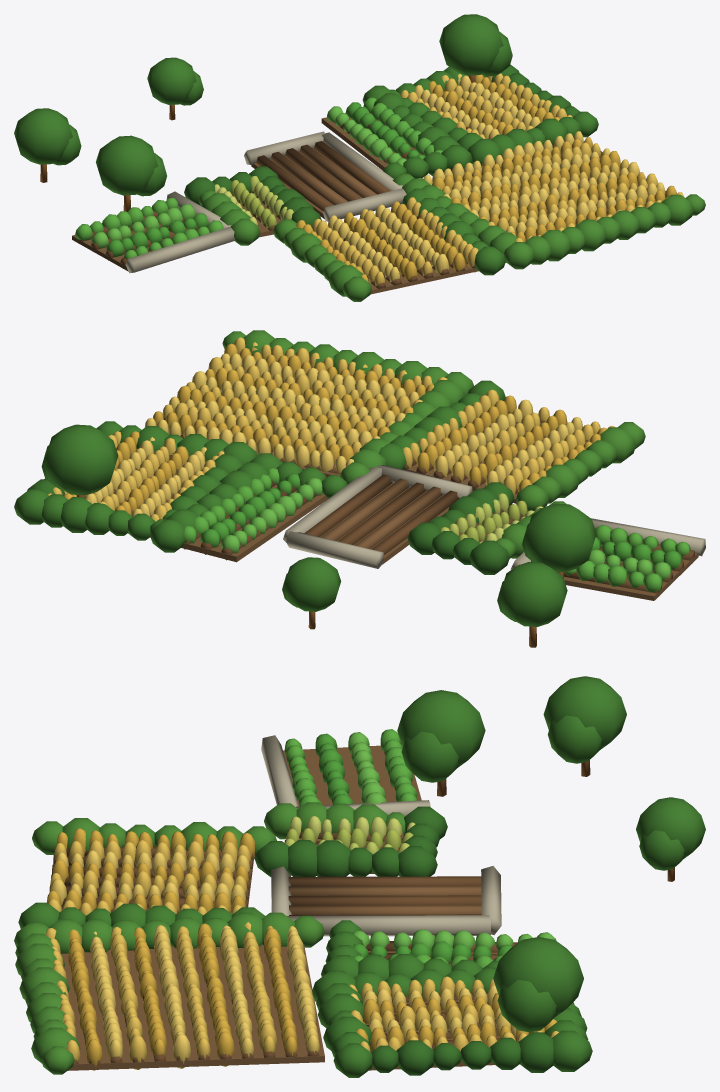
File: improvement_farm_0_1.fbx
The picture shows the model from 3 angles, top to bottom: view 1: azimuth 30°, elevation 25°; view 2: azimuth 150°, elevation 25°; view 3: azimuth 270°, elevation 25°; orthographic projection. The views are drawn at different scales.
Visible parts, largest first — view 1: improvement_farm_0_1_leaf#3f7a2c.001_25, improvement_farm_0_1_crop#d4aa3e.001_03, improvement_farm_0_1_crop#e8c860.001_04, improvement_farm_0_1_crop#e0bc52.001_02, improvement_farm_0_1_hedge1.003_20, improvement_farm_0_1_fwall.001_11, improvement_farm_0_1_hedge1.004_22, improvement_farm_0_1_hedge0.005_17, improvement_farm_0_1_crop#5aa83e.001_08, improvement_farm_0_1_hedge2.003_06, improvement_farm_0_1_plough0_18, improvement_farm_0_1_hedge2.004_21 (+11 smaller); view 2: improvement_farm_0_1_crop#e8c860.001_04, improvement_farm_0_1_crop#e0bc52.001_02, improvement_farm_0_1_leaf#3f7a2c.001_25, improvement_farm_0_1_crop#d4aa3e.001_03, improvement_farm_0_1_hedge2.004_21, improvement_farm_0_1_fwall.001_11, improvement_farm_0_1_hedge1.004_22, improvement_farm_0_1_crop#5aa83e.001_08, improvement_farm_0_1_hedge0.004_16, improvement_farm_0_1_hedge2.003_06, improvement_farm_0_1_tilled.001_00, improvement_farm_0_1_plough0_18 (+10 smaller); view 3: improvement_farm_0_1_leaf#3f7a2c.001_25, improvement_farm_0_1_crop#d4aa3e.001_03, improvement_farm_0_1_crop#e0bc52.001_02, improvement_farm_0_1_crop#e8c860.001_04, improvement_farm_0_1_tilled.001_00, improvement_farm_0_1_hedge0.005_17, improvement_farm_0_1_fwall.001_11, improvement_farm_0_1_hedge1.004_22, improvement_farm_0_1_hedge0.004_16, improvement_farm_0_1_hedge1.003_20, improvement_farm_0_1_hedge2.005_23, improvement_farm_0_1_hedge2.004_21 (+10 smaller).
Boxes of the visible parts, bbox=[...] form: improvement_farm_0_1_leaf#3f7a2c.001_25: bbox=[14, 14, 512, 196]; improvement_farm_0_1_crop#d4aa3e.001_03: bbox=[296, 74, 676, 281]; improvement_farm_0_1_crop#e8c860.001_04: bbox=[328, 74, 665, 282]; improvement_farm_0_1_crop#e0bc52.001_02: bbox=[312, 73, 684, 285]; improvement_farm_0_1_hedge1.003_20: bbox=[504, 194, 705, 269]; improvement_farm_0_1_fwall.001_11: bbox=[125, 131, 406, 273]; improvement_farm_0_1_hedge1.004_22: bbox=[383, 89, 598, 178]; improvement_farm_0_1_hedge0.005_17: bbox=[198, 173, 517, 262]; improvement_farm_0_1_crop#5aa83e.001_08: bbox=[75, 97, 442, 259]; improvement_farm_0_1_hedge2.003_06: bbox=[273, 219, 371, 301]; improvement_farm_0_1_plough0_18: bbox=[256, 141, 390, 210]; improvement_farm_0_1_hedge2.004_21: bbox=[362, 67, 485, 170]; improvement_farm_0_1_crop#e8c860.001_04: bbox=[85, 353, 582, 516]; improvement_farm_0_1_crop#e0bc52.001_02: bbox=[47, 337, 600, 521]; improvement_farm_0_1_leaf#3f7a2c.001_25: bbox=[41, 424, 596, 626]; improvement_farm_0_1_crop#d4aa3e.001_03: bbox=[63, 343, 614, 514]; improvement_farm_0_1_hedge2.004_21: bbox=[14, 453, 282, 552]; improvement_farm_0_1_fwall.001_11: bbox=[283, 465, 705, 569]; improvement_farm_0_1_hedge1.004_22: bbox=[96, 421, 347, 534]; improvement_farm_0_1_crop#5aa83e.001_08: bbox=[184, 467, 690, 592]; improvement_farm_0_1_hedge0.004_16: bbox=[407, 482, 514, 574]; improvement_farm_0_1_hedge2.003_06: bbox=[516, 422, 645, 510]; improvement_farm_0_1_tilled.001_00: bbox=[150, 389, 698, 600]; improvement_farm_0_1_plough0_18: bbox=[304, 474, 459, 555]; improvement_farm_0_1_leaf#3f7a2c.001_25: bbox=[397, 676, 705, 1032]; improvement_farm_0_1_crop#d4aa3e.001_03: bbox=[47, 828, 556, 1070]; improvement_farm_0_1_crop#e0bc52.001_02: bbox=[46, 840, 558, 1069]; improvement_farm_0_1_crop#e8c860.001_04: bbox=[50, 850, 530, 1068]; improvement_farm_0_1_tilled.001_00: bbox=[61, 745, 515, 1070]; improvement_farm_0_1_hedge0.005_17: bbox=[48, 802, 405, 953]; improvement_farm_0_1_fwall.001_11: bbox=[261, 735, 501, 936]; improvement_farm_0_1_hedge1.004_22: bbox=[312, 920, 496, 1077]; improvement_farm_0_1_hedge0.004_16: bbox=[255, 806, 447, 876]; improvement_farm_0_1_hedge1.003_20: bbox=[14, 922, 80, 1074]; improvement_farm_0_1_hedge2.005_23: bbox=[371, 1032, 553, 1075]; improvement_farm_0_1_hedge2.004_21: bbox=[321, 954, 592, 1071].
Bounding box in the file's own units: 202 × 31.19 × 178.
